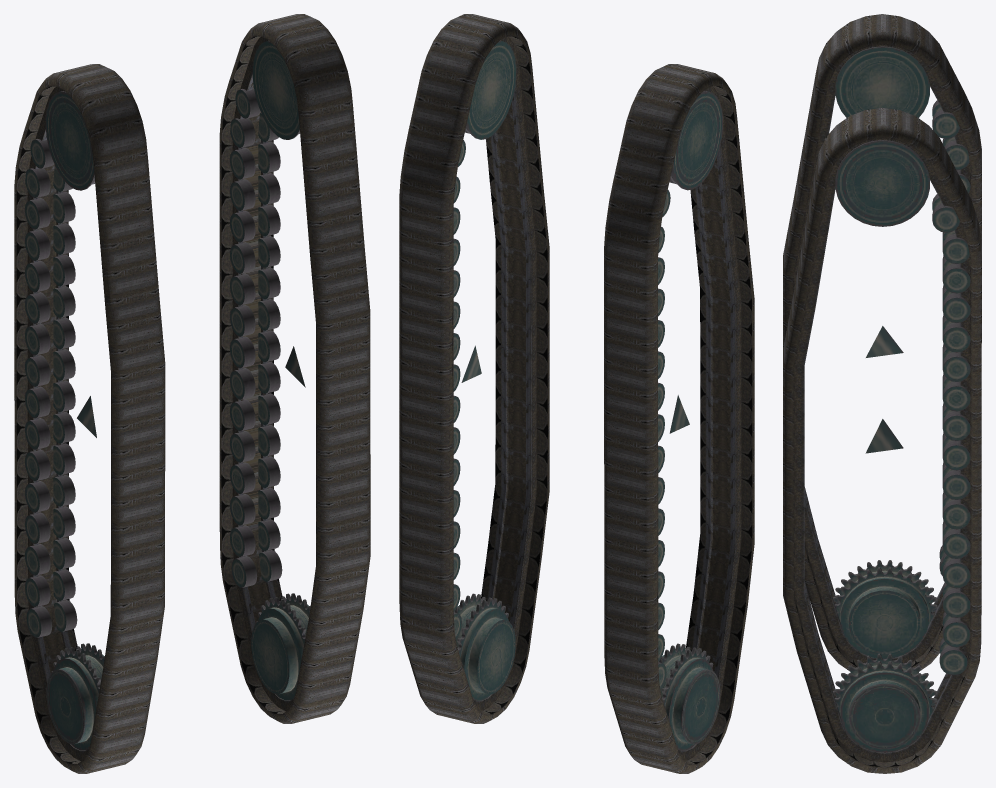
The model's file is Chassis.glb.
3 views of the same model, side by side, from view 1: azimuth 30°, elevation 25°; view 2: azimuth 150°, elevation 25°; view 3: azimuth 270°, elevation 25° (orthographic). The views are drawn at different scales.
Parts seen in each view (by area): view 1: set_0_group_0, set_1_group_0, set_2_group_0, set_3_group_0; view 2: set_0_group_0, set_1_group_0, set_2_group_0, set_3_group_0; view 3: set_0_group_0, set_3_group_0, set_1_group_0, set_2_group_0.
Boxes of the visible parts, x1,y1,x2,y2 form: set_0_group_0: [219, 14, 370, 723]; set_1_group_0: [14, 64, 165, 773]; set_2_group_0: [25, 91, 104, 750]; set_3_group_0: [230, 40, 310, 700]; set_0_group_0: [399, 14, 549, 723]; set_1_group_0: [604, 64, 754, 773]; set_2_group_0: [658, 91, 722, 750]; set_3_group_0: [453, 40, 516, 700]; set_0_group_0: [783, 107, 981, 773]; set_3_group_0: [832, 140, 970, 752]; set_1_group_0: [783, 14, 981, 671]; set_2_group_0: [832, 46, 970, 658].
Bounding box in the file's own units: 2.48 × 6.35 × 1.76.
Materials: 4 (4 with a texture image).
